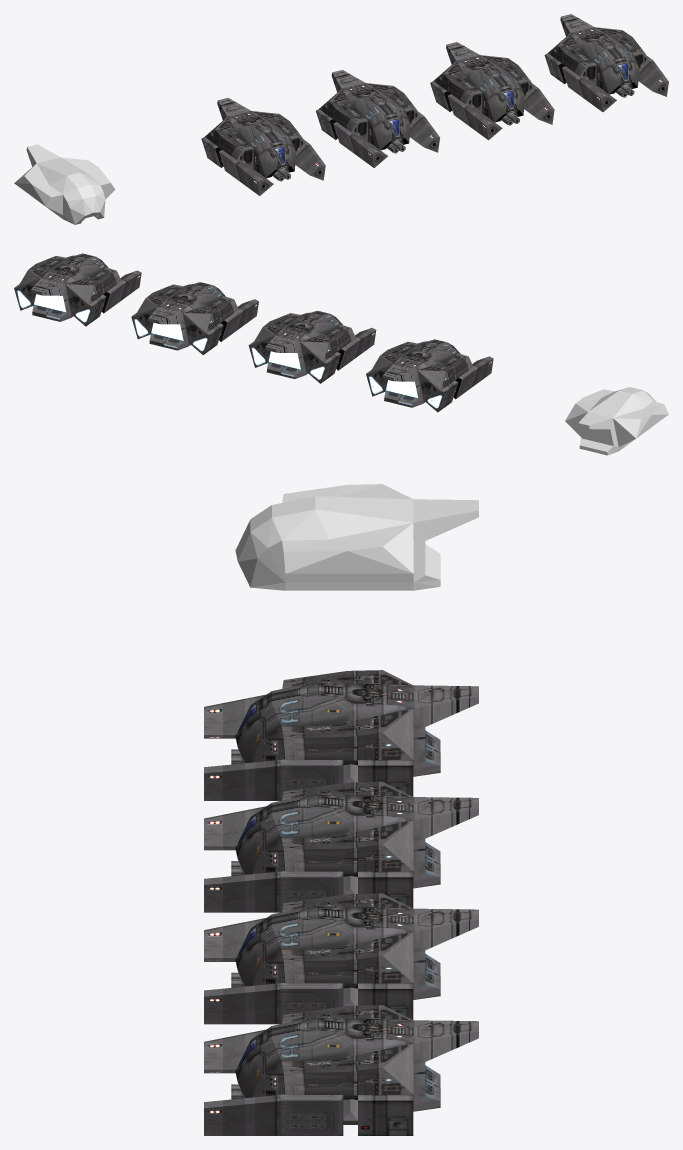
The model's file is smt_acolyte.DAE.
3 views of the same model, one above another, from view 1: azimuth 30°, elevation 25°; view 2: azimuth 150°, elevation 25°; view 3: azimuth 270°, elevation 25° (orthographic). The views are drawn at different scales.
Visible parts, largest first — view 1: COL[Root], MULT[root_mesh]_LOD[1], MULT[root_mesh]_LOD[3], MULT[root_mesh]_LOD[2], MULT[root_mesh]_LOD[0], MULT[thrust1]_LOD[3], MULT[thrust1]_LOD[0], MULT[thrust1]_LOD[2], MULT[thrust1]_LOD[1], MULT[thrust2]_LOD[0], MULT[thrust2]_LOD[2], MULT[thrust2]_LOD[1] (+1 smaller); view 2: COL[Root], MULT[root_mesh]_LOD[0], MULT[root_mesh]_LOD[2], MULT[root_mesh]_LOD[3], MULT[root_mesh]_LOD[1], MULT[thrust1]_LOD[1], MULT[thrust1]_LOD[0], MULT[thrust1]_LOD[3], MULT[thrust1]_LOD[2]; view 3: COL[Root], MULT[root_mesh]_LOD[2], MULT[root_mesh]_LOD[1], MULT[root_mesh]_LOD[3], MULT[root_mesh]_LOD[0], MULT[thrust2]_LOD[3], MULT[thrust2]_LOD[1], MULT[thrust2]_LOD[2], MULT[thrust2]_LOD[0], MULT[thrust1]_LOD[1], MULT[thrust1]_LOD[3], MULT[thrust1]_LOD[0] (+1 smaller).
Boxes of the visible parts, bbox=[...] form: COL[Root]: bbox=[14, 144, 115, 224]; MULT[root_mesh]_LOD[1]: bbox=[319, 70, 420, 150]; MULT[root_mesh]_LOD[3]: bbox=[548, 14, 648, 94]; MULT[root_mesh]_LOD[2]: bbox=[434, 42, 534, 122]; MULT[root_mesh]_LOD[0]: bbox=[205, 98, 305, 178]; MULT[thrust1]_LOD[3]: bbox=[544, 53, 616, 111]; MULT[thrust1]_LOD[0]: bbox=[201, 137, 273, 195]; MULT[thrust1]_LOD[2]: bbox=[430, 81, 502, 140]; MULT[thrust1]_LOD[1]: bbox=[316, 109, 387, 167]; MULT[thrust2]_LOD[0]: bbox=[295, 140, 325, 180]; MULT[thrust2]_LOD[2]: bbox=[524, 84, 554, 124]; MULT[thrust2]_LOD[1]: bbox=[409, 112, 440, 152]; COL[Root]: bbox=[565, 387, 668, 455]; MULT[root_mesh]_LOD[0]: bbox=[369, 339, 473, 407]; MULT[root_mesh]_LOD[2]: bbox=[135, 282, 238, 350]; MULT[root_mesh]_LOD[3]: bbox=[17, 253, 121, 321]; MULT[root_mesh]_LOD[1]: bbox=[252, 310, 355, 378]; MULT[thrust1]_LOD[1]: bbox=[306, 327, 376, 383]; MULT[thrust1]_LOD[0]: bbox=[423, 356, 493, 412]; MULT[thrust1]_LOD[3]: bbox=[71, 270, 141, 326]; MULT[thrust1]_LOD[2]: bbox=[189, 299, 258, 354]; COL[Root]: bbox=[235, 484, 478, 590]; MULT[root_mesh]_LOD[2]: bbox=[235, 893, 478, 999]; MULT[root_mesh]_LOD[1]: bbox=[235, 781, 478, 888]; MULT[root_mesh]_LOD[3]: bbox=[235, 1005, 478, 1111]; MULT[root_mesh]_LOD[0]: bbox=[235, 670, 478, 776]; MULT[thrust2]_LOD[3]: bbox=[204, 1094, 413, 1135]; MULT[thrust2]_LOD[1]: bbox=[204, 871, 413, 912]; MULT[thrust2]_LOD[2]: bbox=[204, 983, 413, 1024]; MULT[thrust2]_LOD[0]: bbox=[204, 759, 413, 800]; MULT[thrust1]_LOD[1]: bbox=[204, 806, 265, 850]; MULT[thrust1]_LOD[3]: bbox=[204, 1029, 265, 1073]; MULT[thrust1]_LOD[0]: bbox=[204, 694, 265, 738].
Size of the model in its own units: 148 by 9.46 by 29.06.
Materials: 15 (15 with a texture image).
